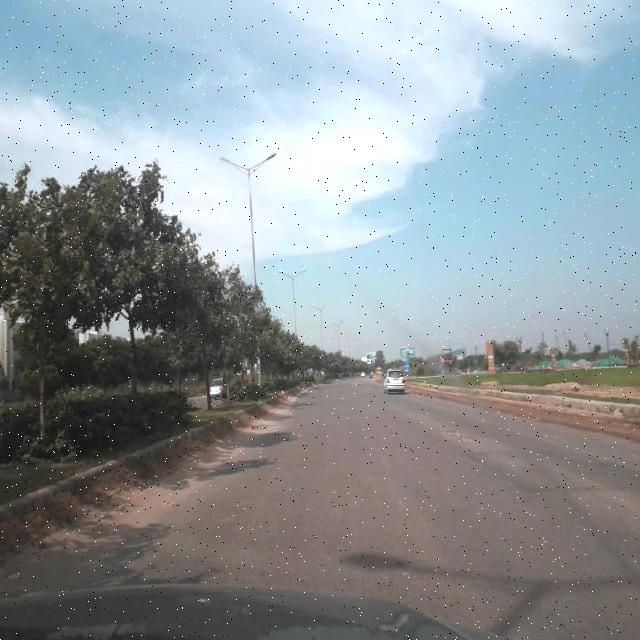D40: (435, 426, 481, 452)
